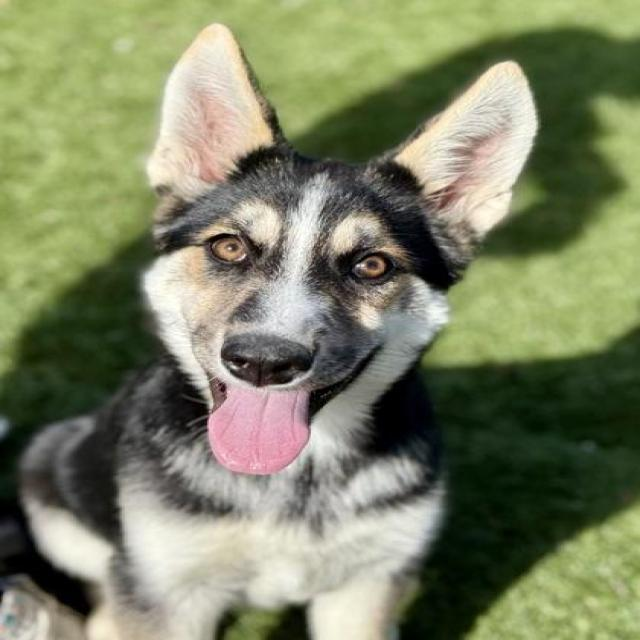siberian_husky_dog: (132, 14, 546, 516)
